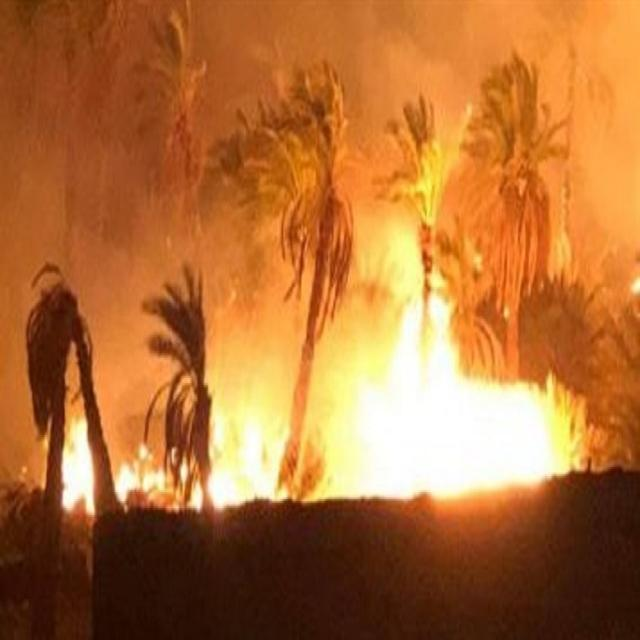Fire: (329, 294, 557, 501), (213, 410, 288, 513), (62, 389, 97, 526)
